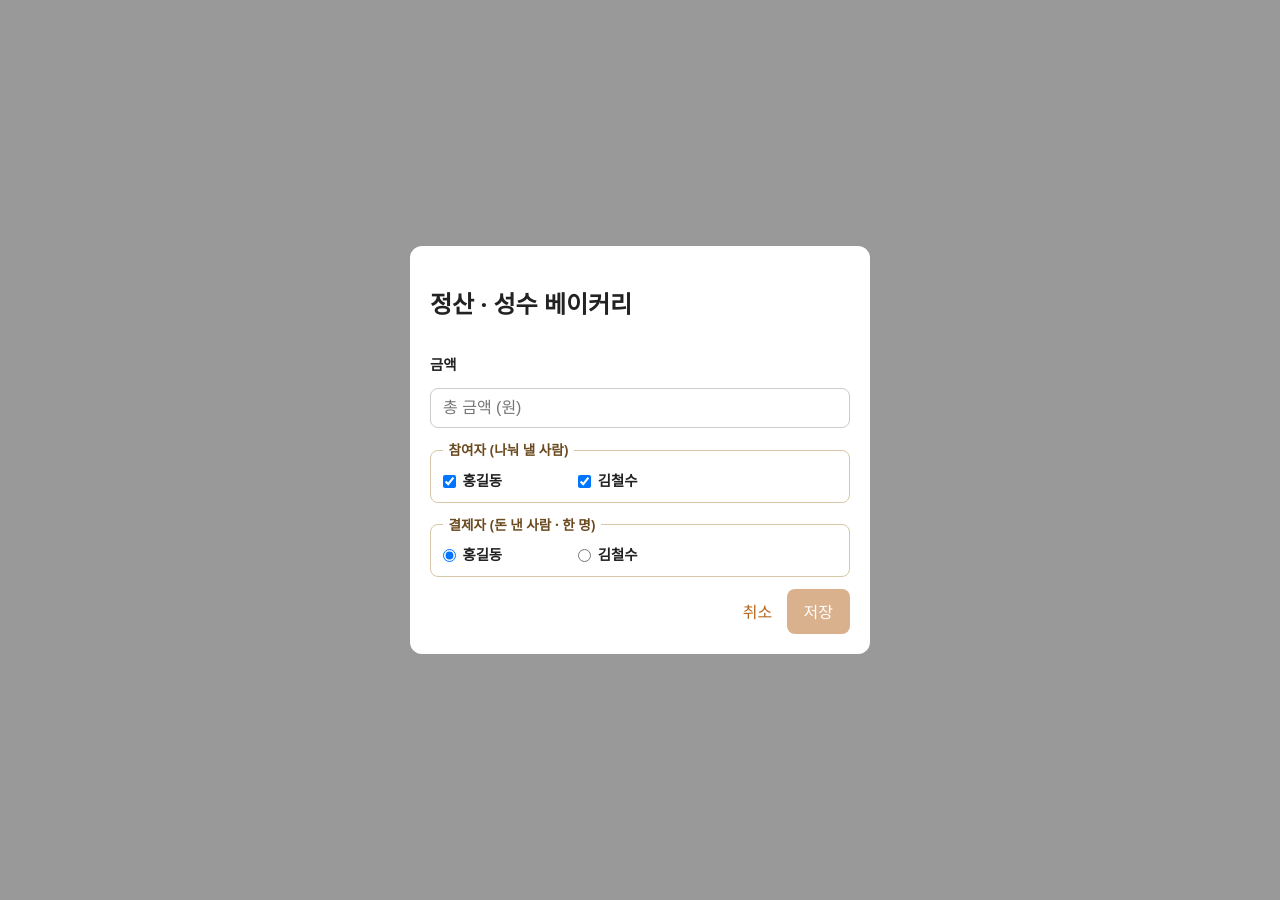
SettlementModal › disables 저장 until amount > 0 and a payer + participant are selected
The image size is (1280, 900).
Check: the button with test id "settlement-save" is disabled, box x1=786 y1=589 x2=850 y2=634
Step 1. Type "5000" into the number field with test id "settlement-amount" → x=640, y=408, box x1=430 y1=388 x2=850 y2=428
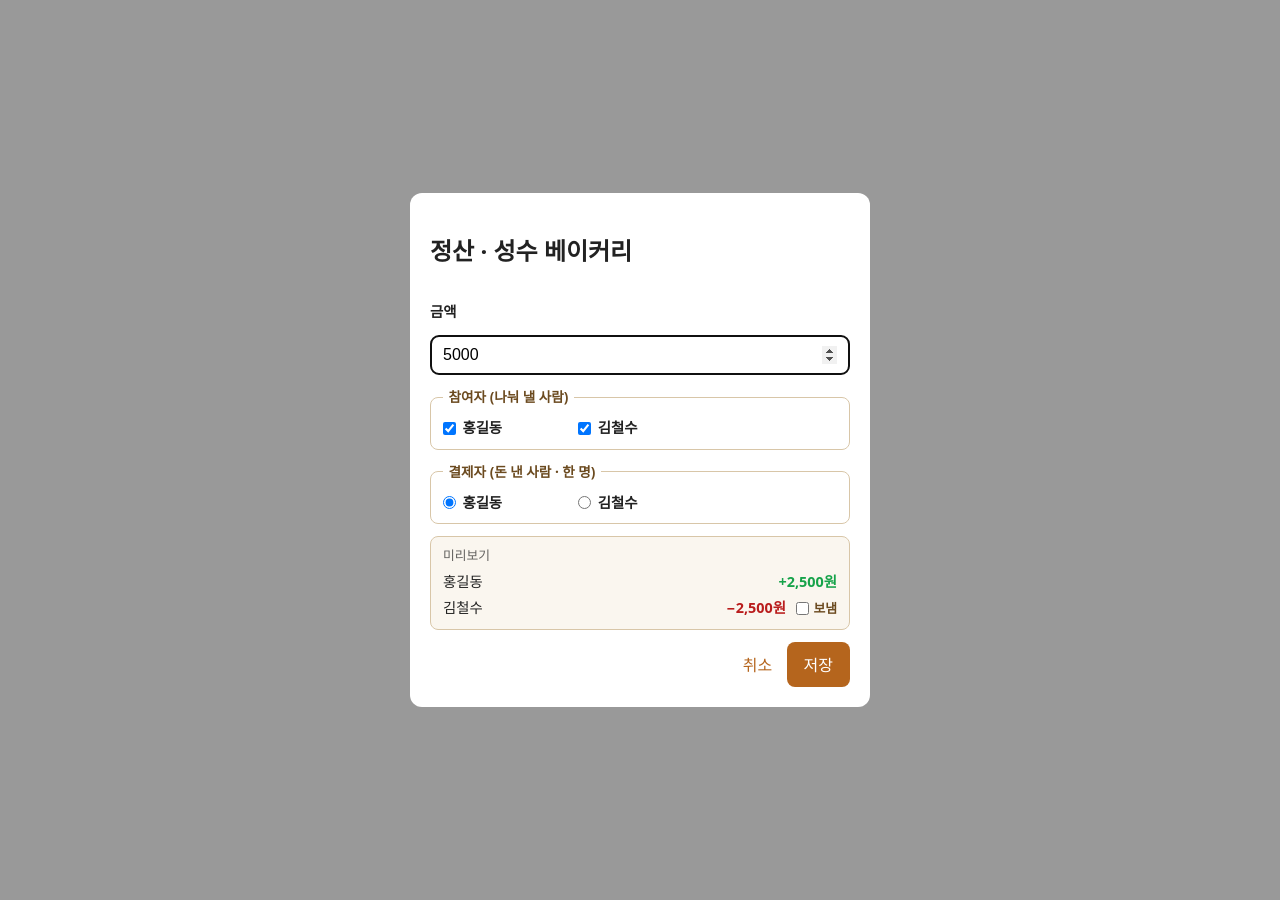
Check: the button with test id "settlement-save" is enabled, box x1=786 y1=642 x2=850 y2=687
